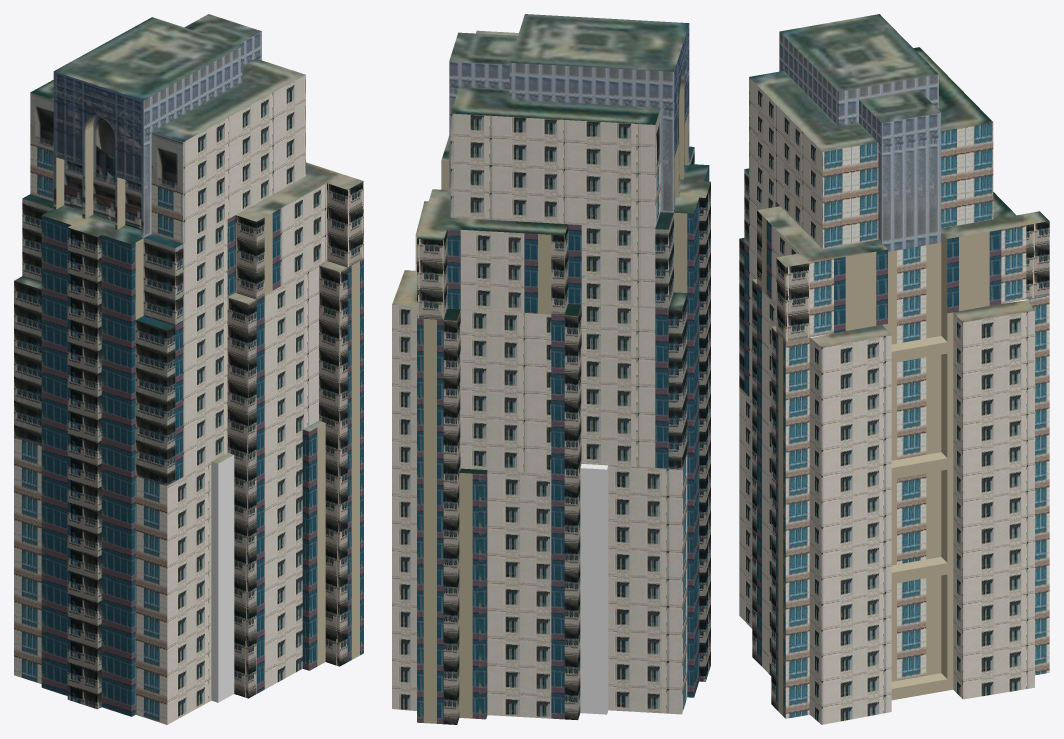
Rendered from Fairooz-Tower-(EAU).fbx.
3 renders of one model, left to right at view 1: azimuth 30°, elevation 25°; view 2: azimuth 150°, elevation 25°; view 3: azimuth 270°, elevation 25°, orthographic. The views are drawn at different scales.
Visible parts, largest first — view 1: Model; view 2: Model; view 3: Model.
Boxes of the visible parts, box(x1,y1,x2,y2) form: Model: box(14, 14, 363, 724); Model: box(392, 14, 710, 724); Model: box(739, 14, 1049, 724).
Size of what is drawn, in the model's own units: 52.1 by 102 by 49.17.
